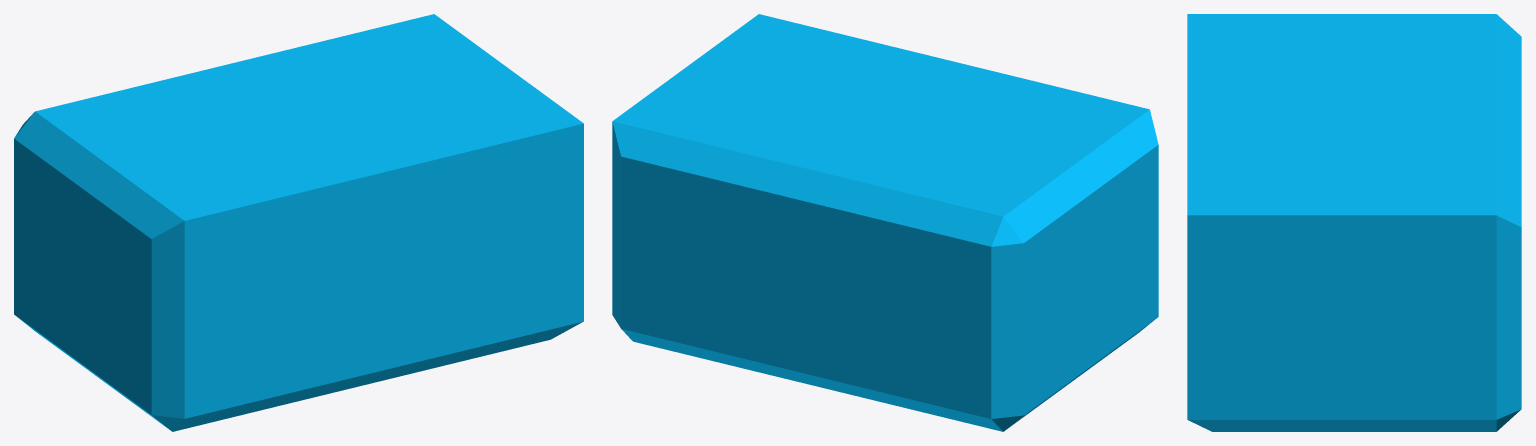
The model's file is mantik_operatorlerle_secim_islemi.gltf.
3 views of the same model, side by side, from view 1: azimuth 30°, elevation 25°; view 2: azimuth 150°, elevation 25°; view 3: azimuth 270°, elevation 25° (orthographic). The views are drawn at different scales.
Visible parts, largest first — view 1: Gövde; view 2: Gövde; view 3: Gövde.
Boxes of the visible parts, bbox=[...] form: Gövde: bbox=[14, 14, 583, 431]; Gövde: bbox=[612, 14, 1158, 431]; Gövde: bbox=[1187, 14, 1521, 431].
Bounding box in the file's own units: 0.06 × 0.03 × 0.04.
